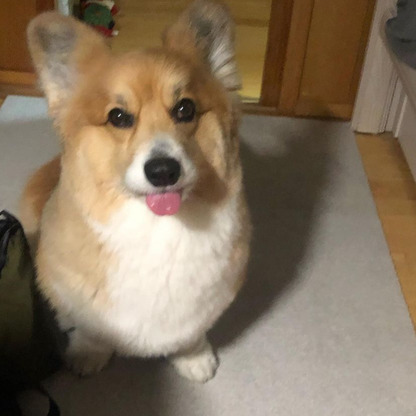Corgi: (24, 16, 266, 390)
